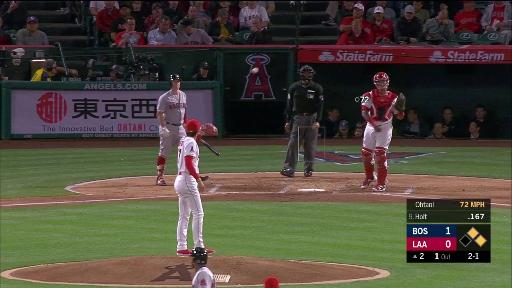pitcher: (175, 118, 219, 255)
